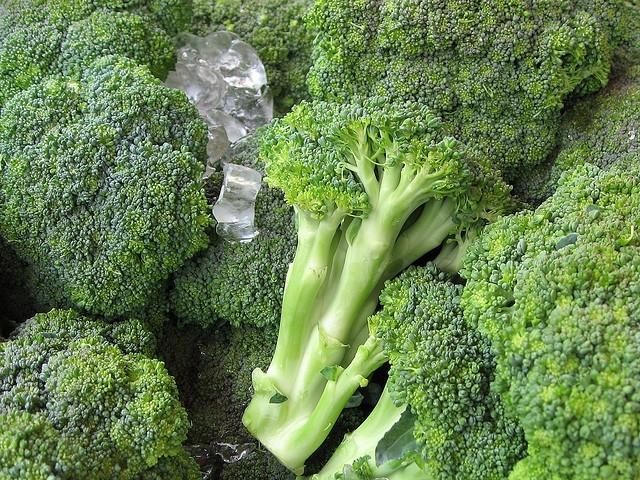broccoli: (242, 96, 536, 476), (307, 0, 611, 179), (296, 262, 528, 480), (159, 319, 374, 480), (0, 309, 202, 480), (0, 143, 161, 319), (508, 60, 638, 209), (88, 142, 217, 286), (184, 2, 320, 118), (168, 228, 296, 329), (57, 7, 178, 83), (540, 298, 636, 388), (37, 115, 123, 206), (570, 1, 638, 80), (2, 2, 73, 70), (254, 182, 298, 244)
